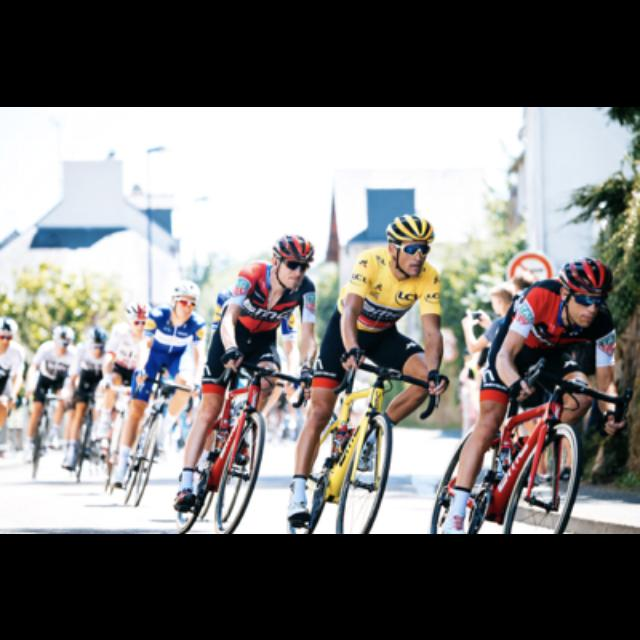With Helmet: (378, 203, 442, 277), (555, 252, 617, 326), (269, 228, 317, 298), (166, 276, 204, 320), (80, 320, 116, 360)
